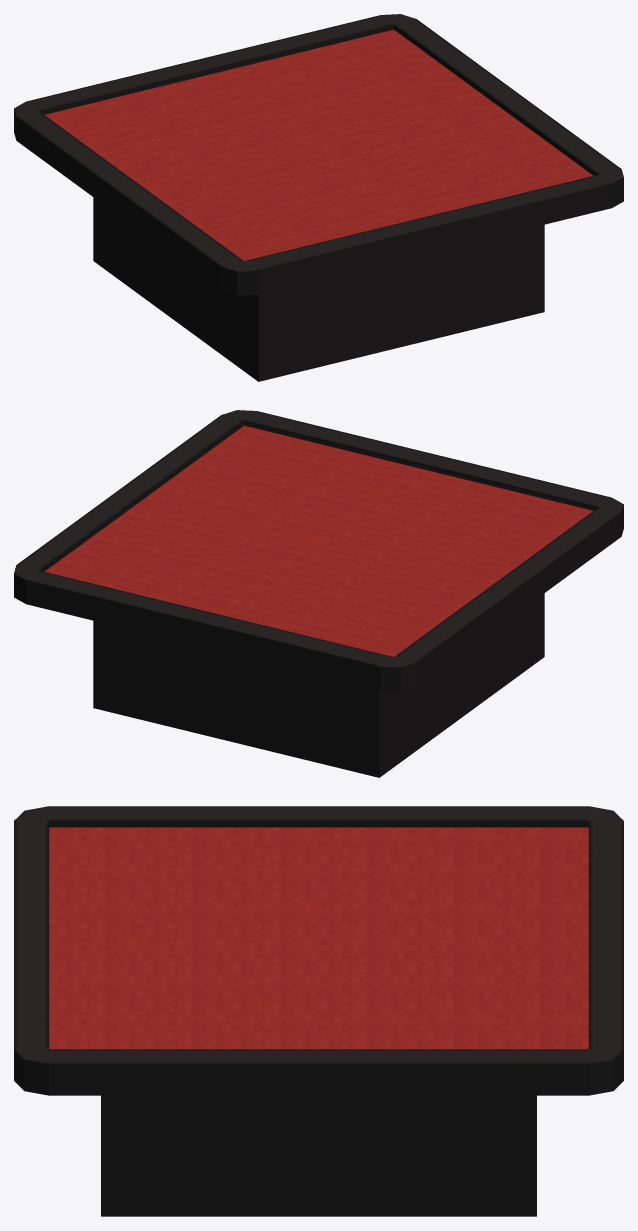
The model's file is Casino Table.obj.
3 renders of one model, top to bottom at view 1: azimuth 30°, elevation 25°; view 2: azimuth 150°, elevation 25°; view 3: azimuth 270°, elevation 25°, orthographic. The views are drawn at different scales.
Visible parts, largest first — view 1: Top, cuboid; view 2: Top, cuboid; view 3: Top, cuboid.
Boxes of the visible parts, x1,y1,x2,y2 form: Top: (14, 14, 623, 295); cuboid: (93, 197, 544, 381); Top: (14, 410, 623, 691); cuboid: (93, 593, 544, 777); Top: (14, 806, 623, 1095); cuboid: (101, 1095, 536, 1216).
Size of the model in its own units: 10.94 by 3.75 by 10.94.
1 material, 1 textured.
